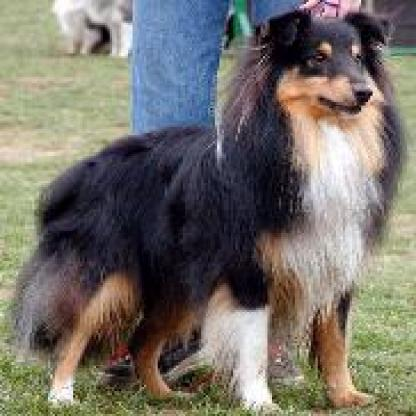Shetland_sheepdog: (7, 8, 402, 412)
